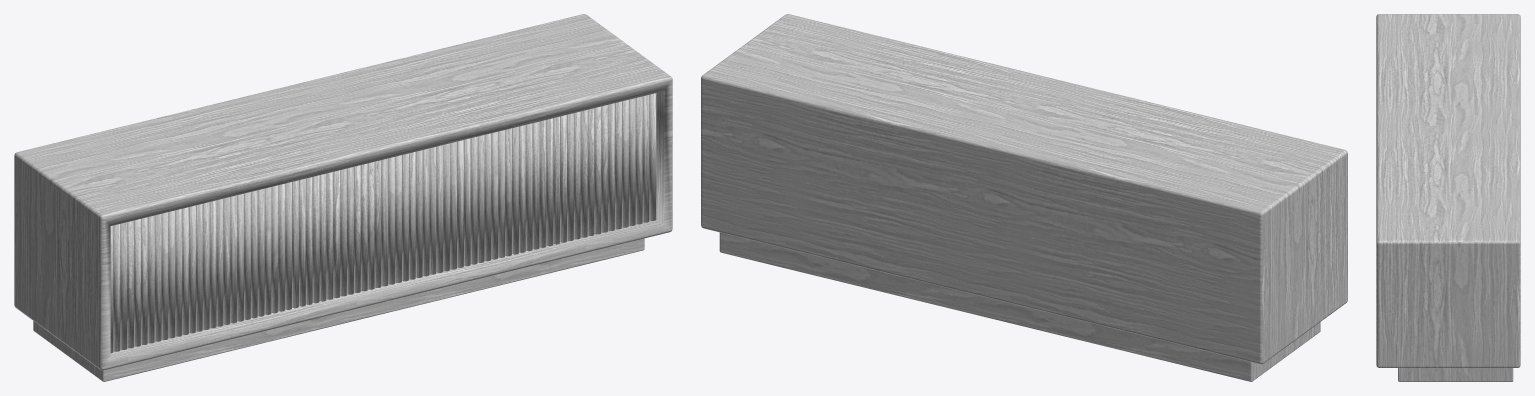
Rendered from tv-console-1.5m.gltf.
The picture shows the model from 3 angles, left to right: view 1: azimuth 30°, elevation 25°; view 2: azimuth 150°, elevation 25°; view 3: azimuth 270°, elevation 25°; orthographic projection. The views are drawn at different scales.
Visible parts, largest first — view 1: tv-console; view 2: tv-console; view 3: tv-console.
Boxes of the visible parts, <box> form: tv-console: <box>14,14,672,381</box>; tv-console: <box>701,14,1347,381</box>; tv-console: <box>1376,14,1520,381</box>.
Bounding box in the file's own units: 1.5 × 0.45 × 0.4.
1 material, 1 textured.
